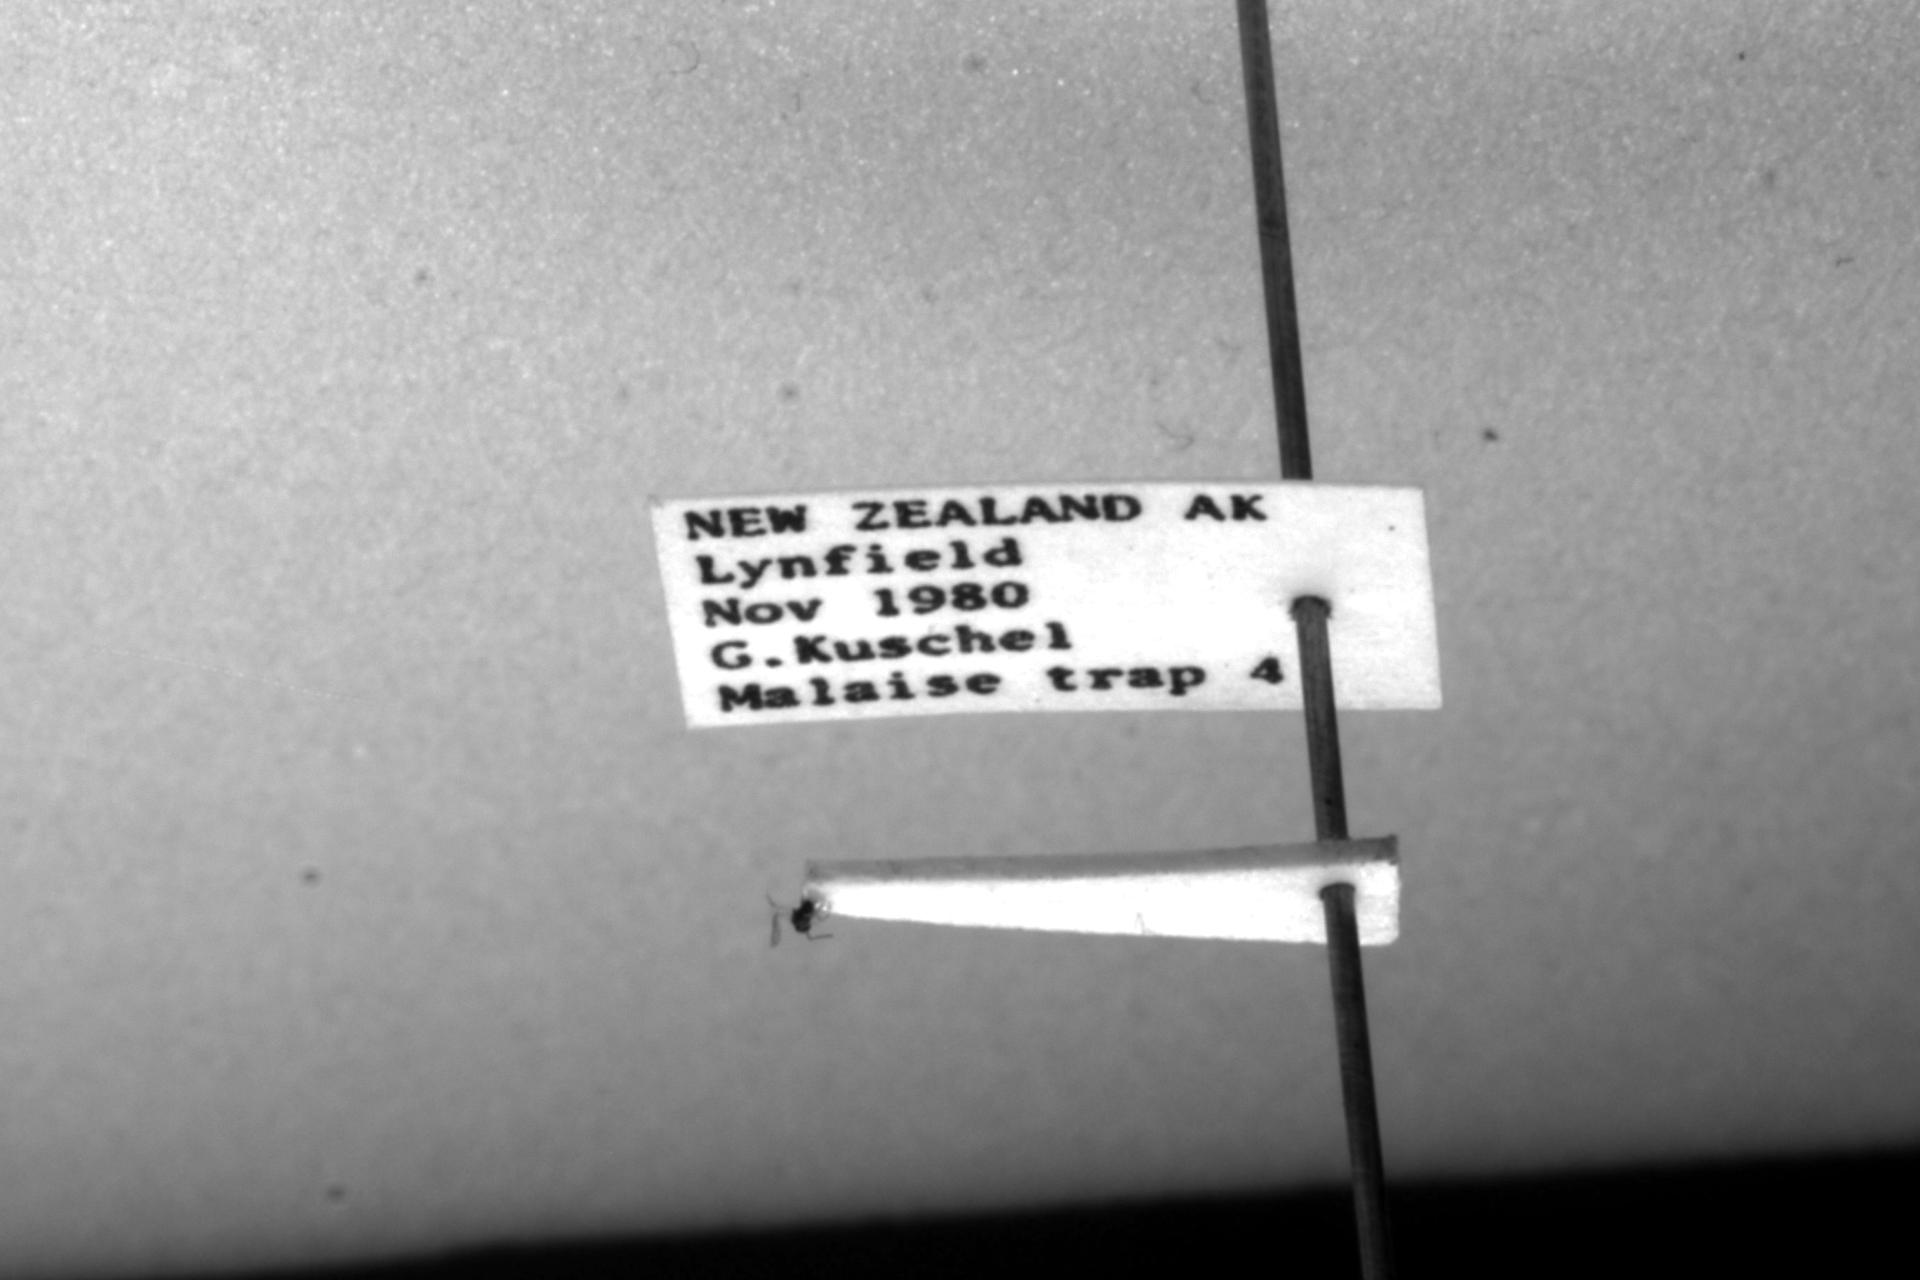typed_label: (652, 480, 1440, 728)
